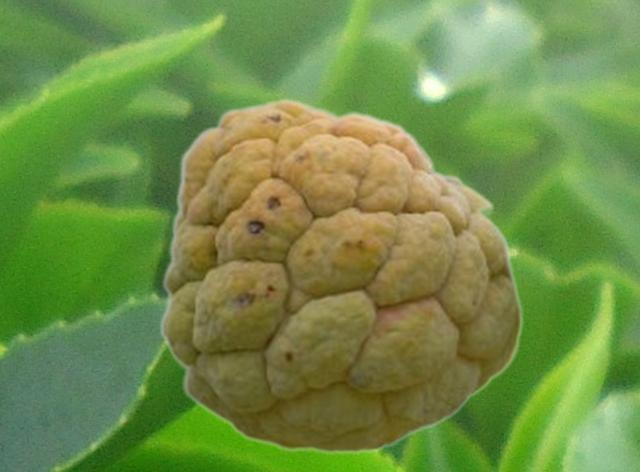atis: (158, 97, 522, 453)
